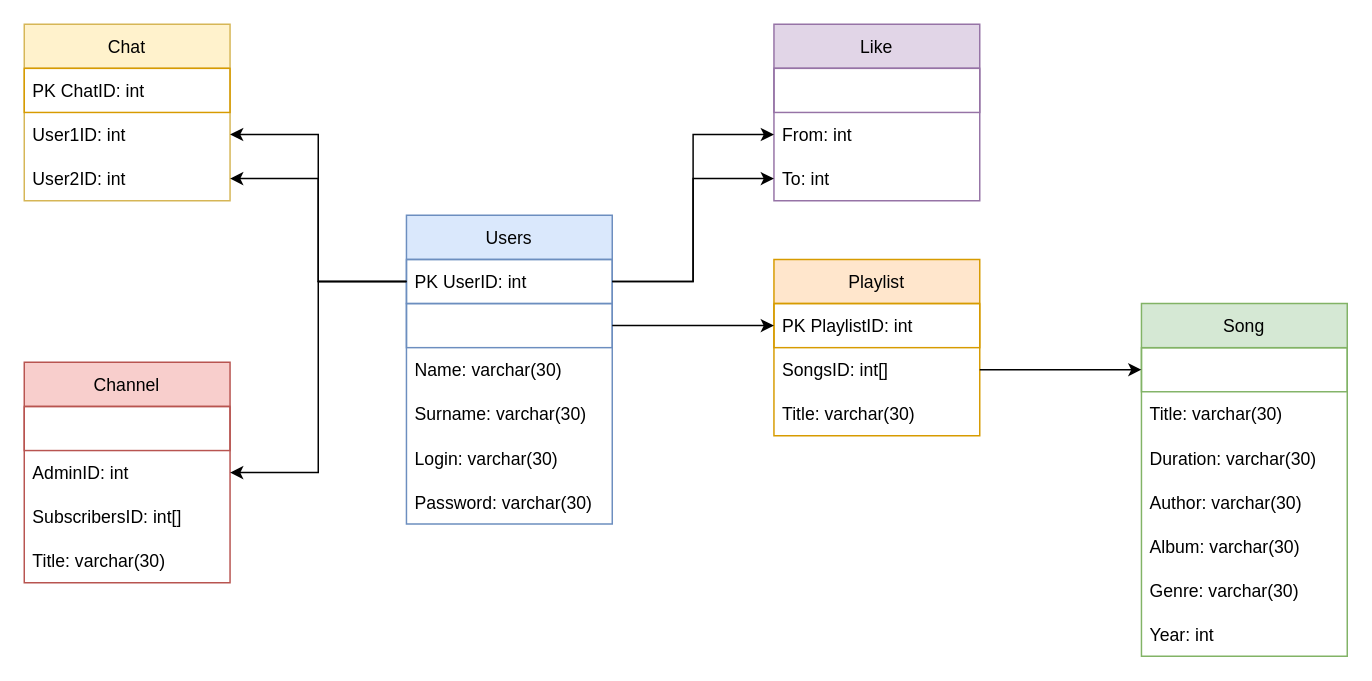
Image size: 1372x681. Some labels were removed from this diagram. Each missing label, with the centre of its shape:
PK ChannelID: int: pixel 126 428
PK LikeID: int: pixel 876 89
PK SongID: int: pixel 1243 369
PlaylistsID: int[]: pixel 508 325
